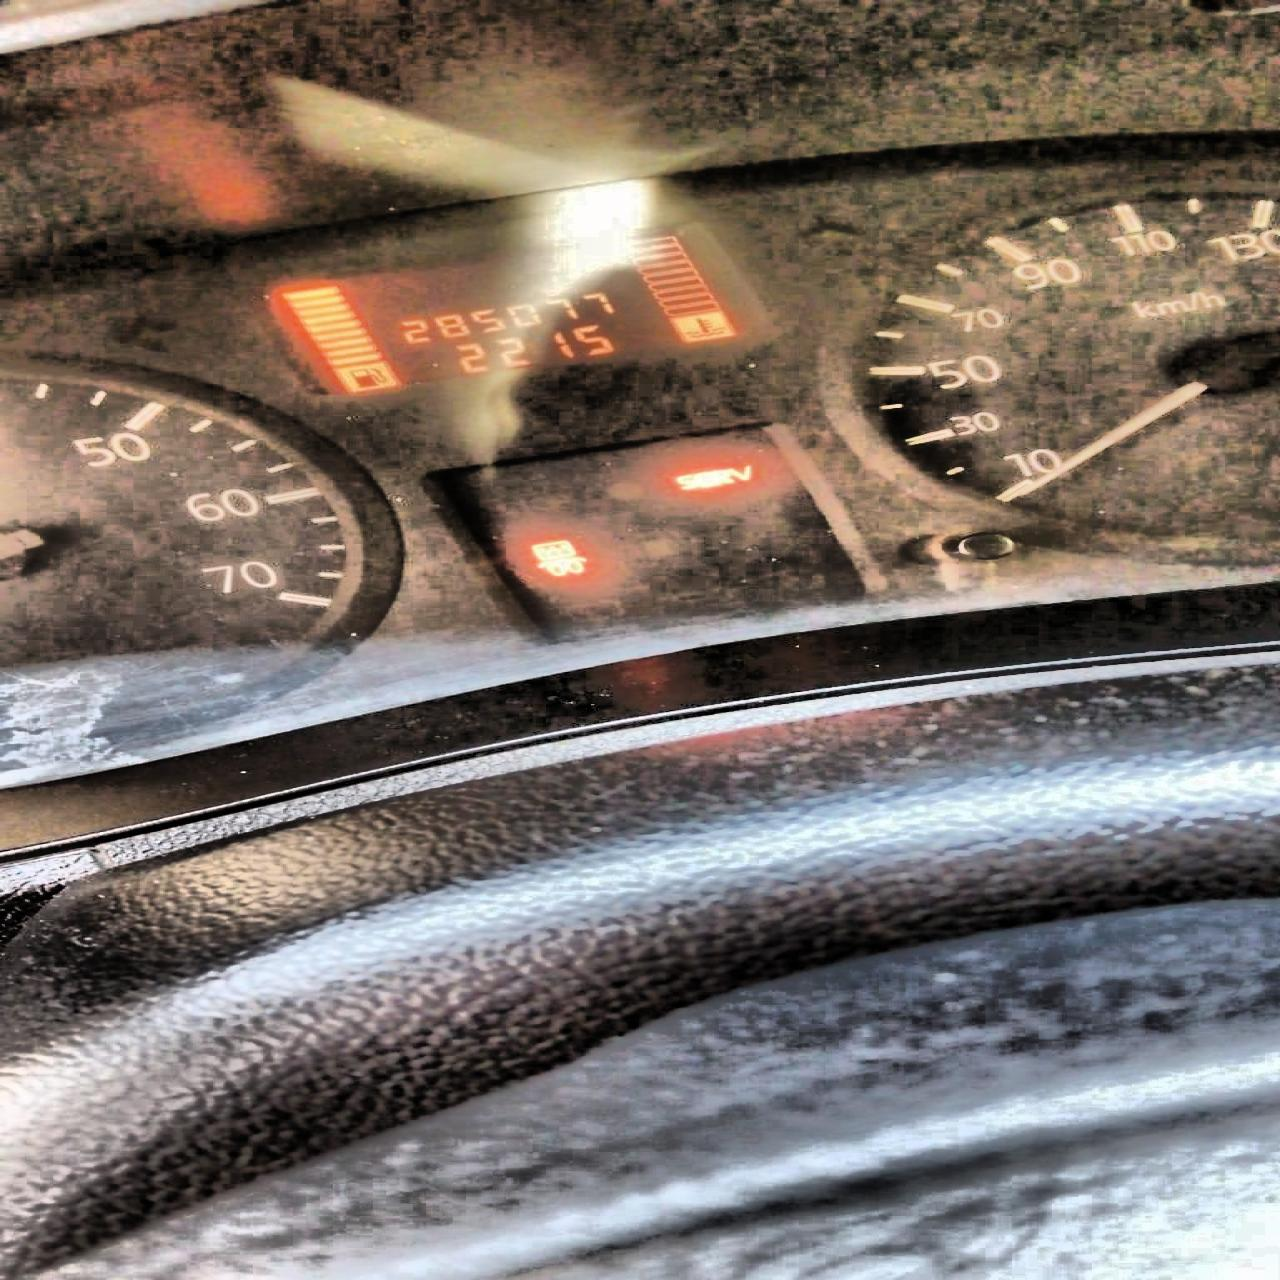0: (504, 302, 543, 328)
1: (551, 331, 573, 358)
2: (452, 341, 489, 374), (495, 336, 531, 368), (400, 319, 431, 343)
5: (571, 324, 614, 355), (468, 308, 504, 333)
7: (579, 292, 614, 314), (543, 297, 578, 319)
8: (430, 313, 469, 339)
odometer: (250, 227, 744, 396)
